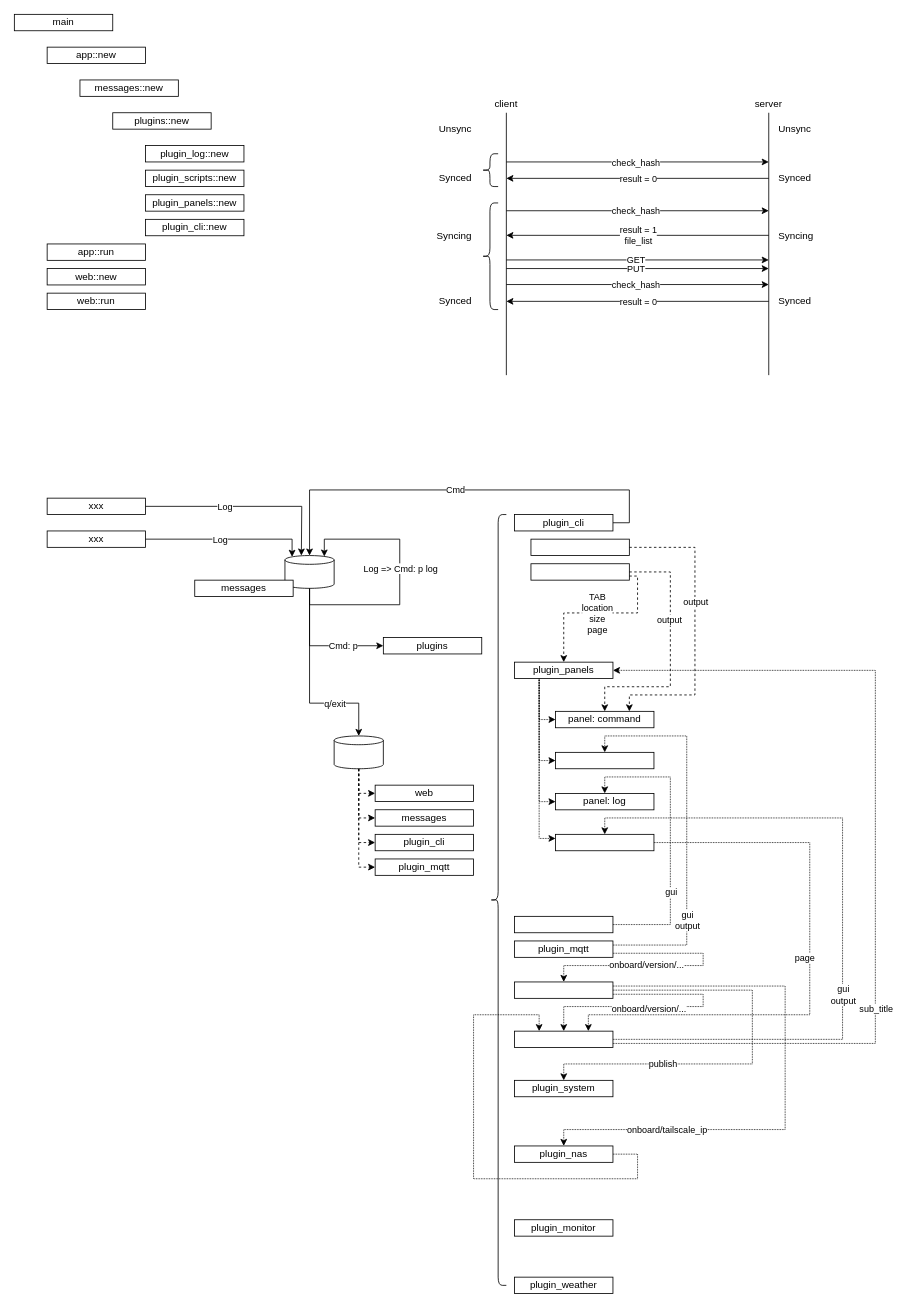
The diagram is 907 pixels wide and 1308 high, and some of its shapes have lost their labels. The centre of each missing label's shape, as x and y in pixels:
msg: the point at 309,571
panel: info: the point at 604,842
panel: mqtt: the point at 604,760
plugin_devices: the point at 563,989
plugin_infos: the point at 563,1039
plugin_log: the point at 563,924
shutdown: the point at 358,752
task (cli): got line: the point at 579,547
task (gui): got output: the point at 579,571
